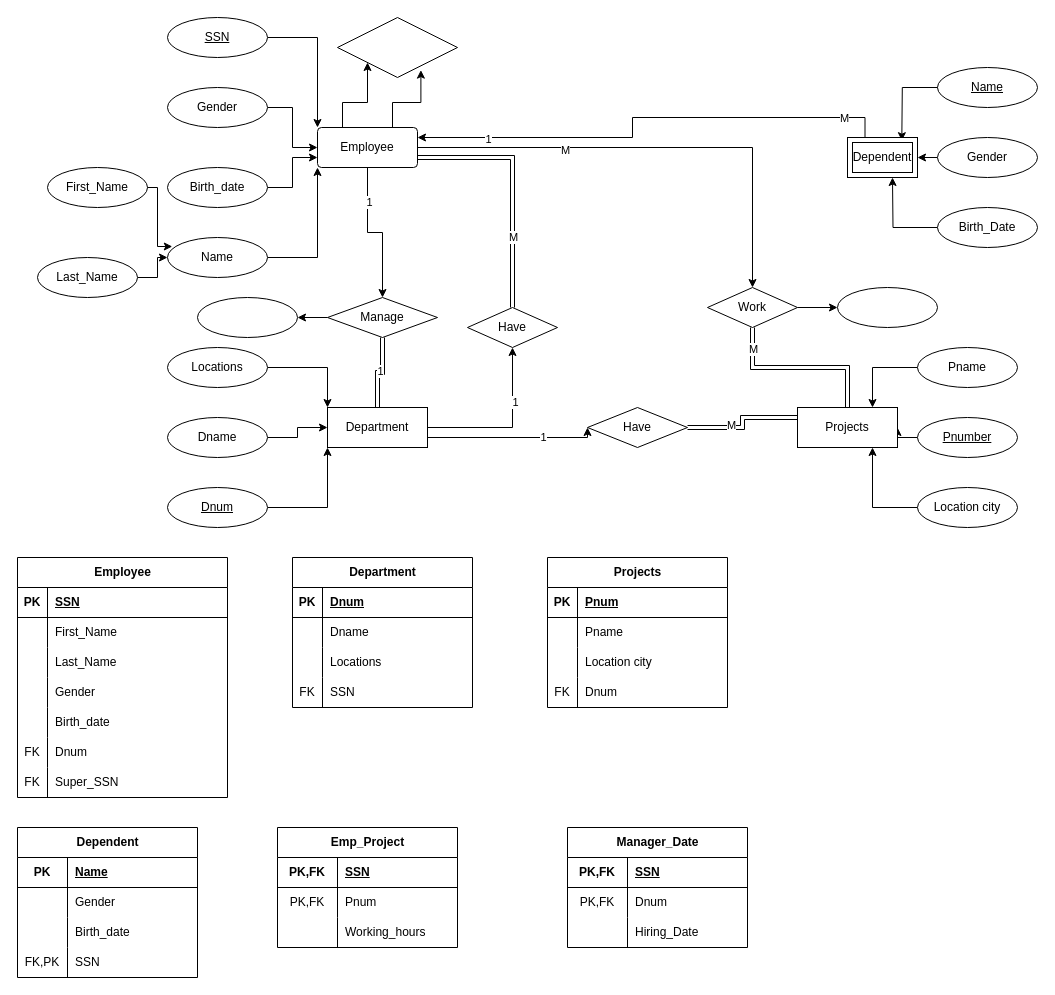
This 1055x995 diagram has some shape labels left out. Each missing label, with the centre of its shape:
"Hiring Date" belongs at [247,317].
"Supervise" belongs at [397,47].
"Working Hours" belongs at [887,307].
